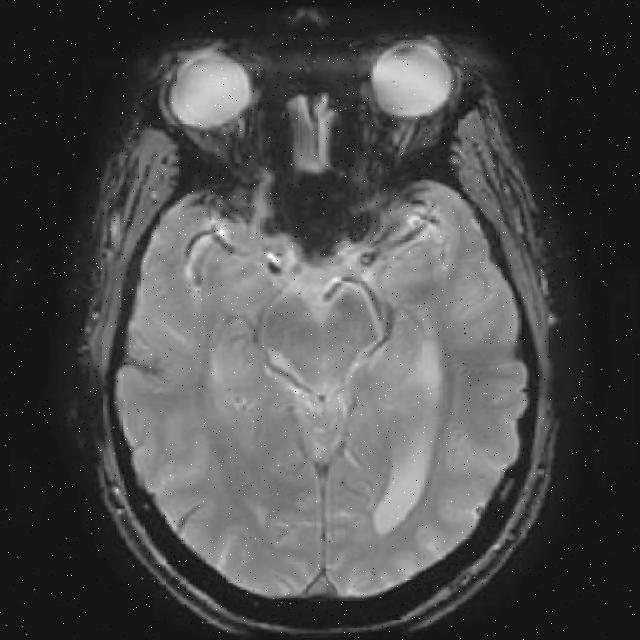EMCI: (269, 169, 392, 259)
